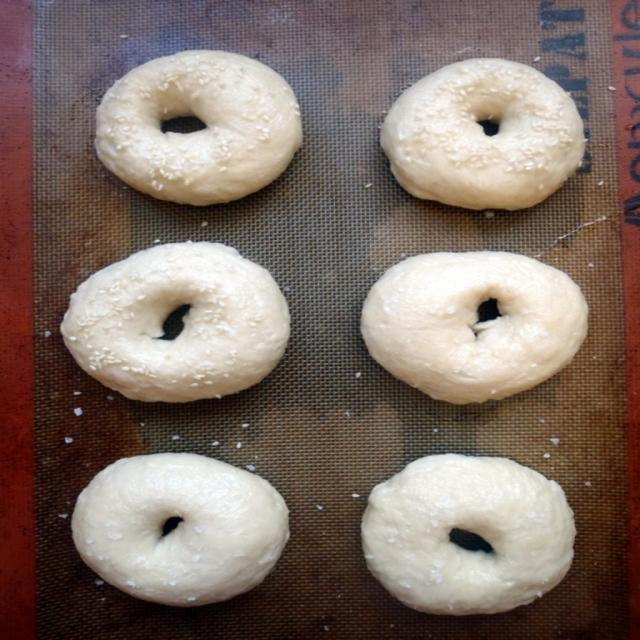Bagel: (58, 242, 290, 406), (365, 247, 590, 405), (92, 46, 306, 204), (368, 453, 577, 614), (69, 452, 283, 606), (378, 56, 588, 210)
